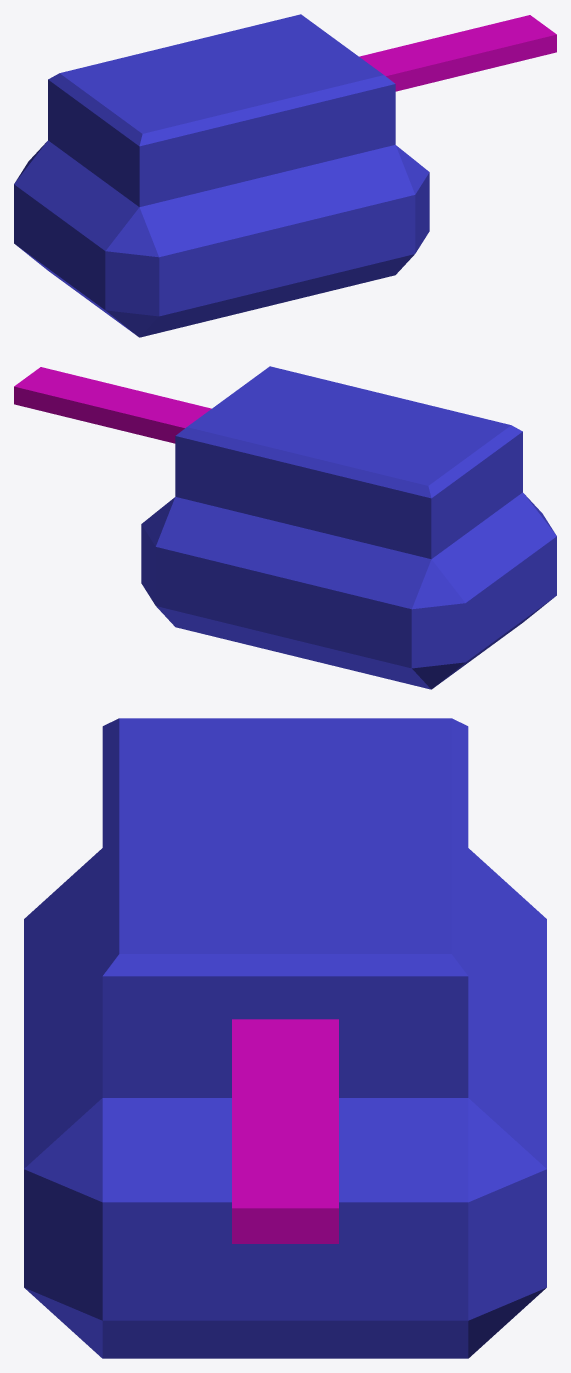
The model's file is Tank.fbx.
3 renders of one model, top to bottom at view 1: azimuth 30°, elevation 25°; view 2: azimuth 150°, elevation 25°; view 3: azimuth 270°, elevation 25°, orthographic. The views are drawn at different scales.
Parts seen in each view (by area): view 1: Cube.002; view 2: Cube.002; view 3: Cube.002.
Part boxes in pixels (x1,y1,x2,y2): Cube.002: (14, 14, 556, 337); Cube.002: (14, 366, 556, 689); Cube.002: (24, 718, 546, 1358).
Size of the model in its own units: 776 by 305 by 363.
